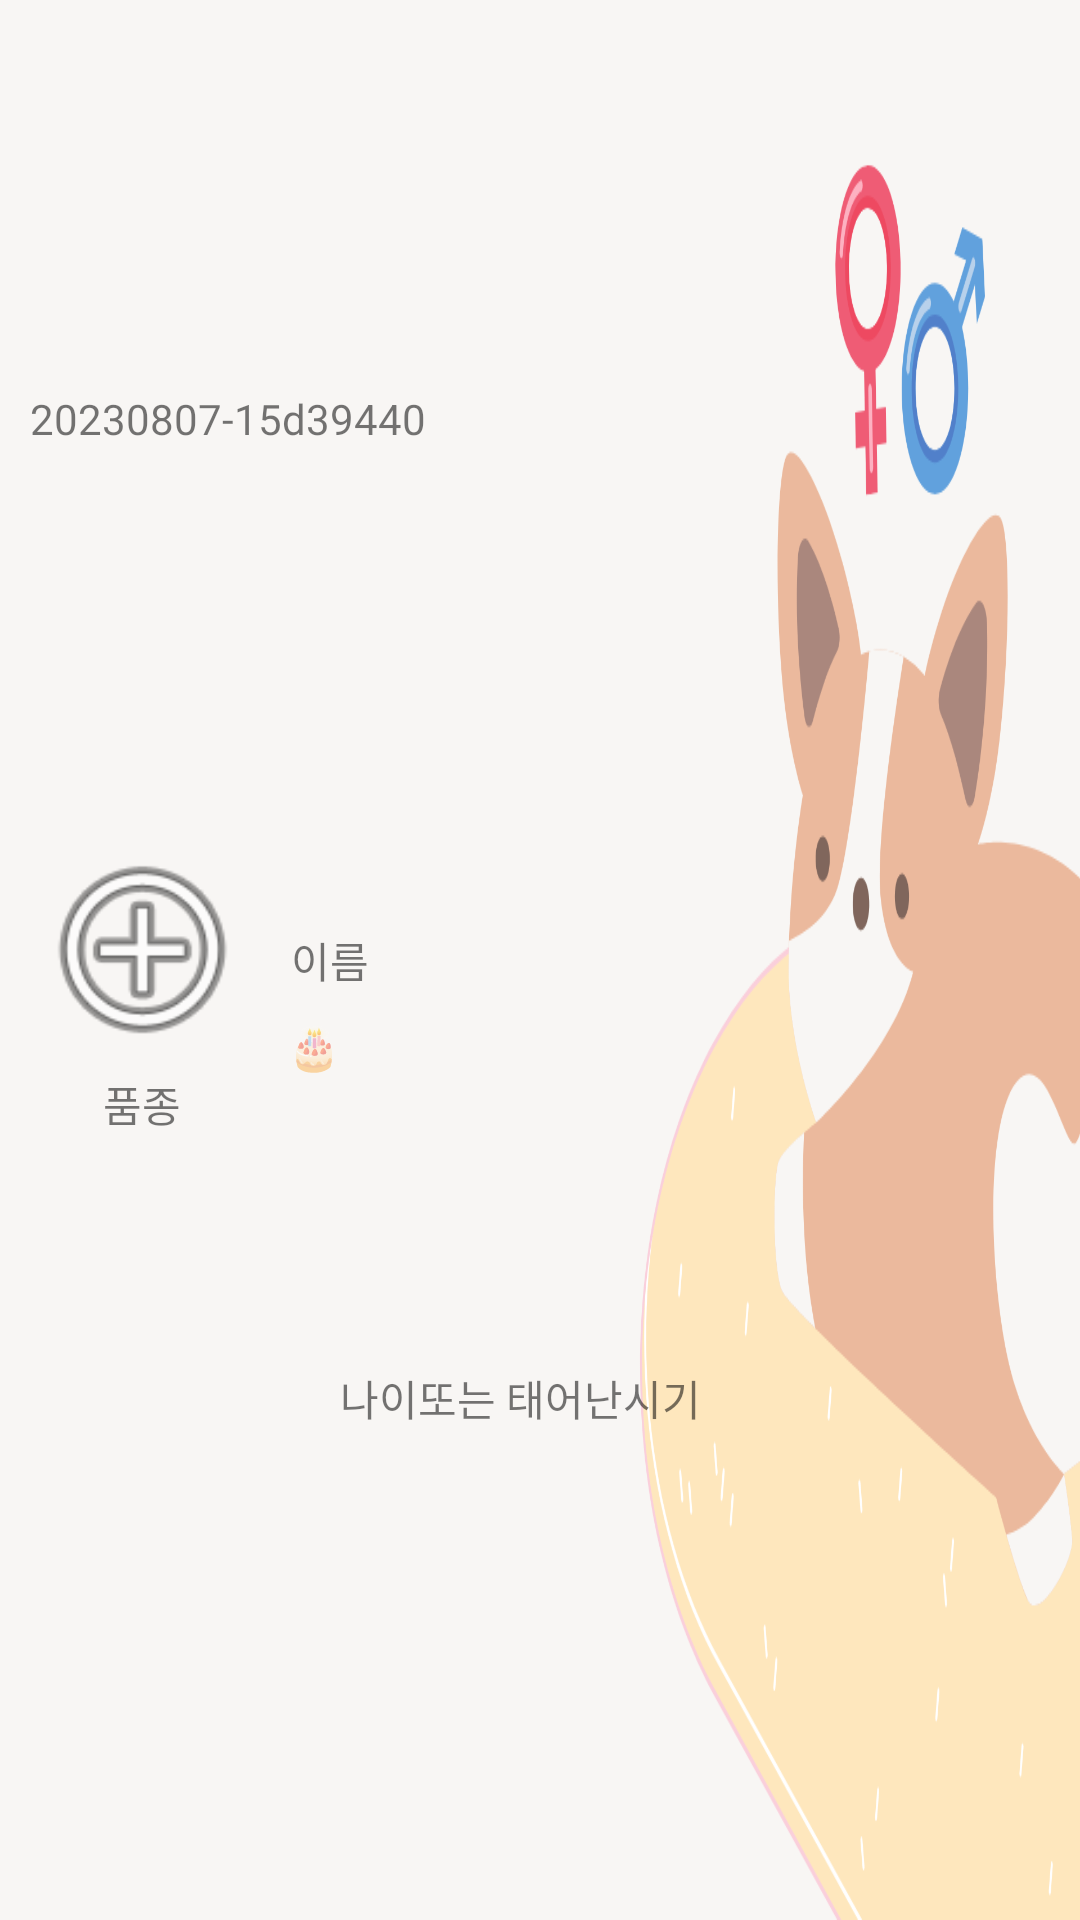

Where to tap for icons on this 1080x1920 app screen, as [x,y]:
add: [142,949]
